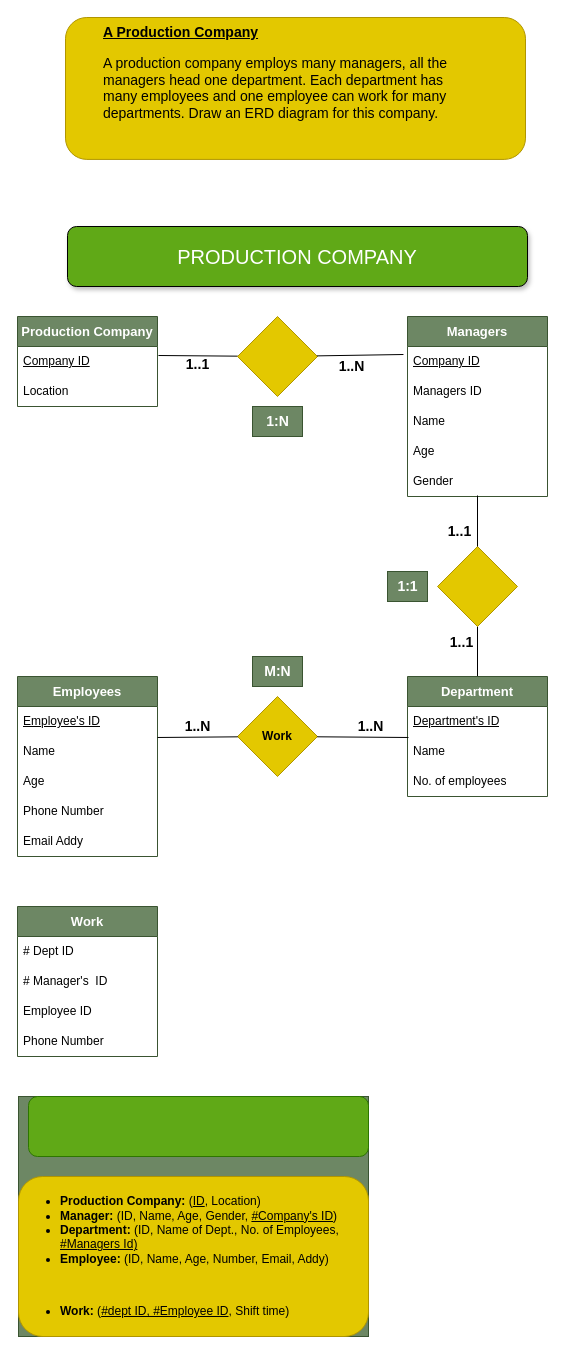
The diagram is 565 pixels wide and 1354 high, and some of its shapes have lost their labels. The centre of each missing label's shape, as x and y in pixels:
"Employee" goes at pixel 277 356.
"Head" goes at pixel 477 586.
"Relational Model" goes at pixel 198 1126.
